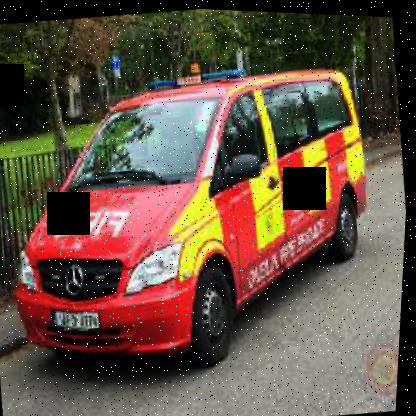emergency: (0, 30, 411, 374)
